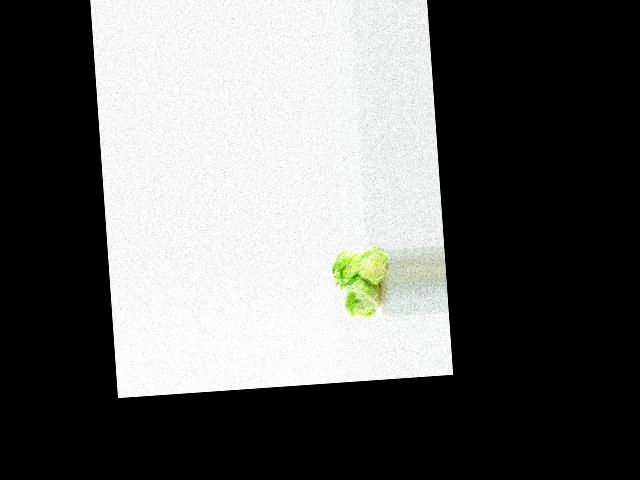lettuce: (327, 248, 363, 292)
